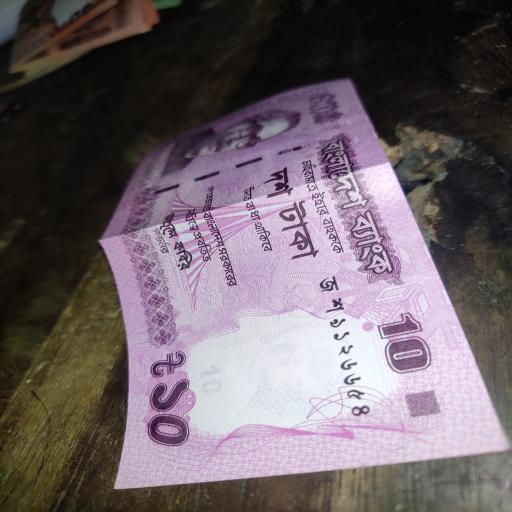10taka: (102, 78, 512, 492)
